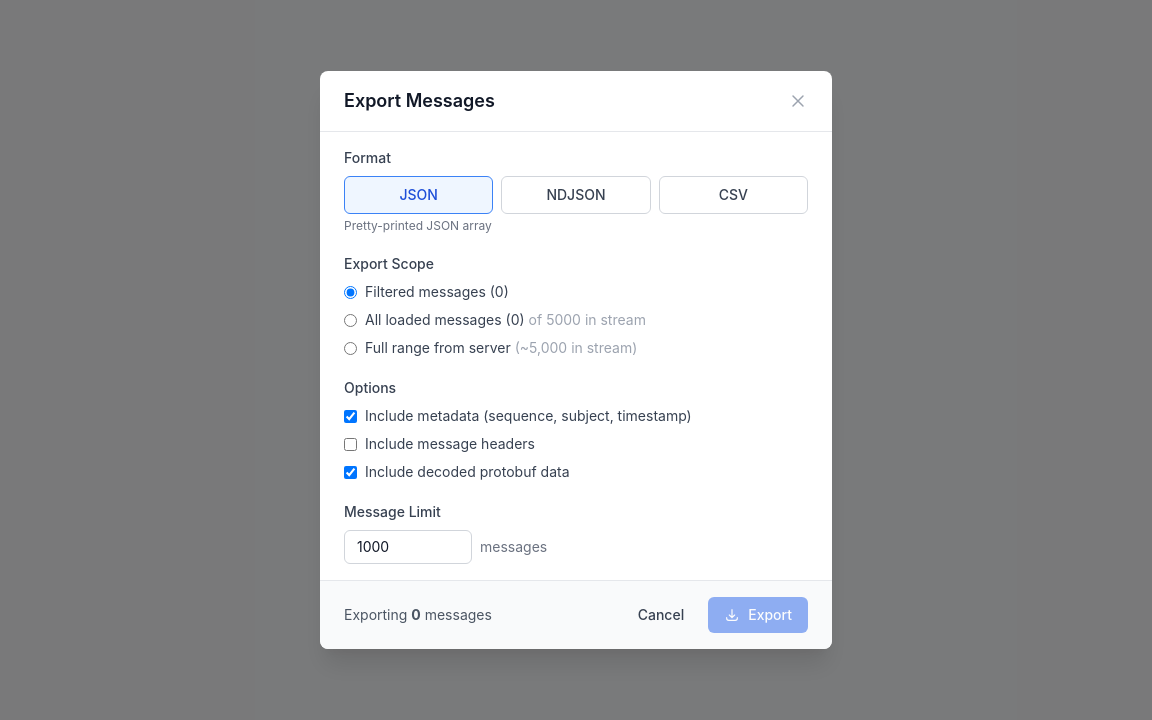
Scenario: ExportDialog range export › caps the limit at one million and says the file is built in the browser
This screenshot has width=1152, height=720.
Click the radio button with test id "export-scope-range".
click(350, 348)  # box [344, 342, 357, 354]
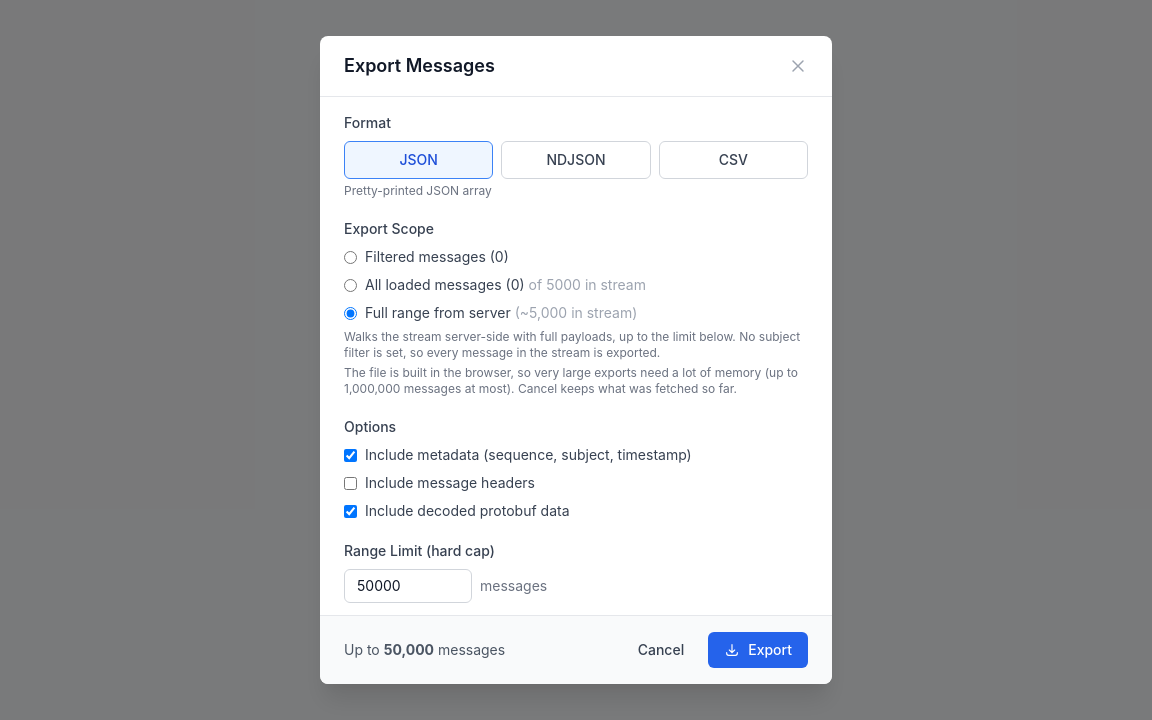
Type "5000000" into the number field with test id "export-limit".
click(408, 586); type("5000000")  # box [344, 569, 472, 603]
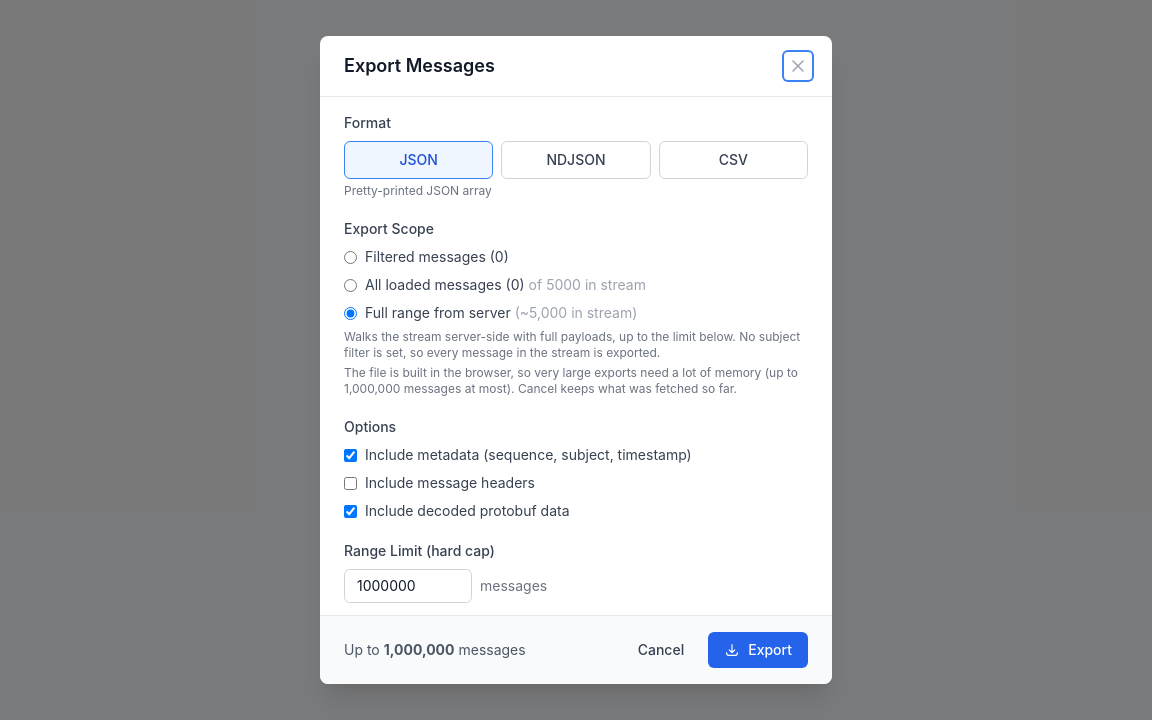
Expected: the text "built in the browser" is shown, [344, 365, 798, 380]
Expected: the number field with test id "export-limit" holds "1000000", [344, 569, 472, 603]
